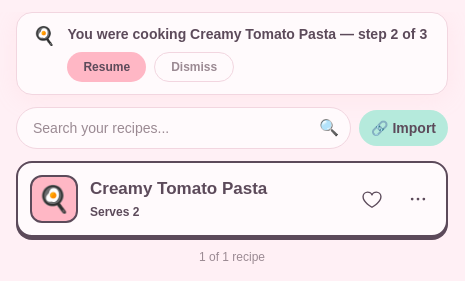
Test case: RecipeBook — "Resume cooking?" banner (PR #475) › tapping Dismiss clears the saved session and does not open the guided flow
Click the button "Dismiss" at (194, 67), box [154,52,234,82]
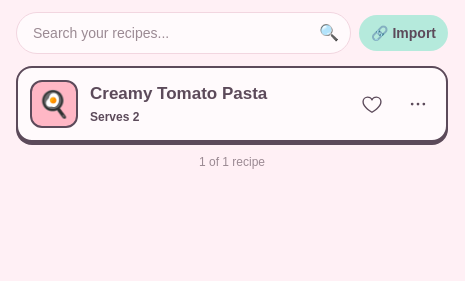
Result: the element with test id "resume-cook-banner" is gone
